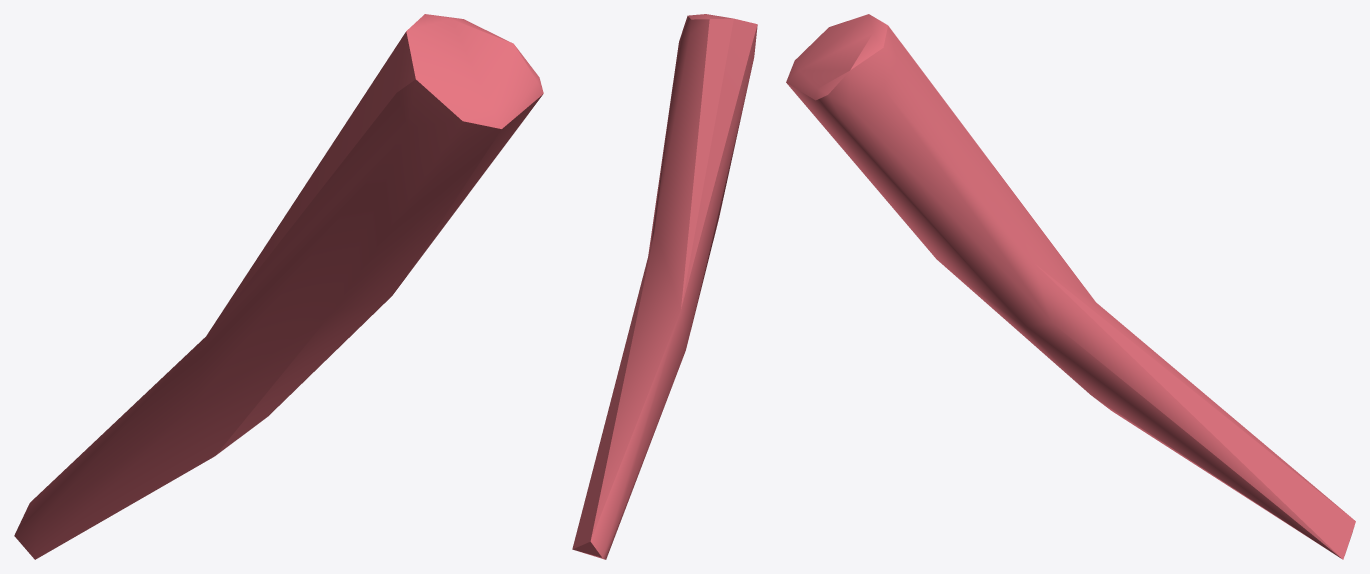
Rendered from fma8646_fj2882.glb.
3 views of the same model, side by side, from view 1: azimuth 30°, elevation 25°; view 2: azimuth 150°, elevation 25°; view 3: azimuth 270°, elevation 25° (orthographic). The views are drawn at different scales.
Parts seen in each view (by area): view 1: FMA8646_FJ2882; view 2: FMA8646_FJ2882; view 3: FMA8646_FJ2882.
Part boxes in pixels (x1,y1,x2,y2): FMA8646_FJ2882: (14,14,543,559); FMA8646_FJ2882: (572,14,757,559); FMA8646_FJ2882: (786,14,1355,559).
Size of the model in its own units: 0.00417 by 0.0158 by 0.0145.
